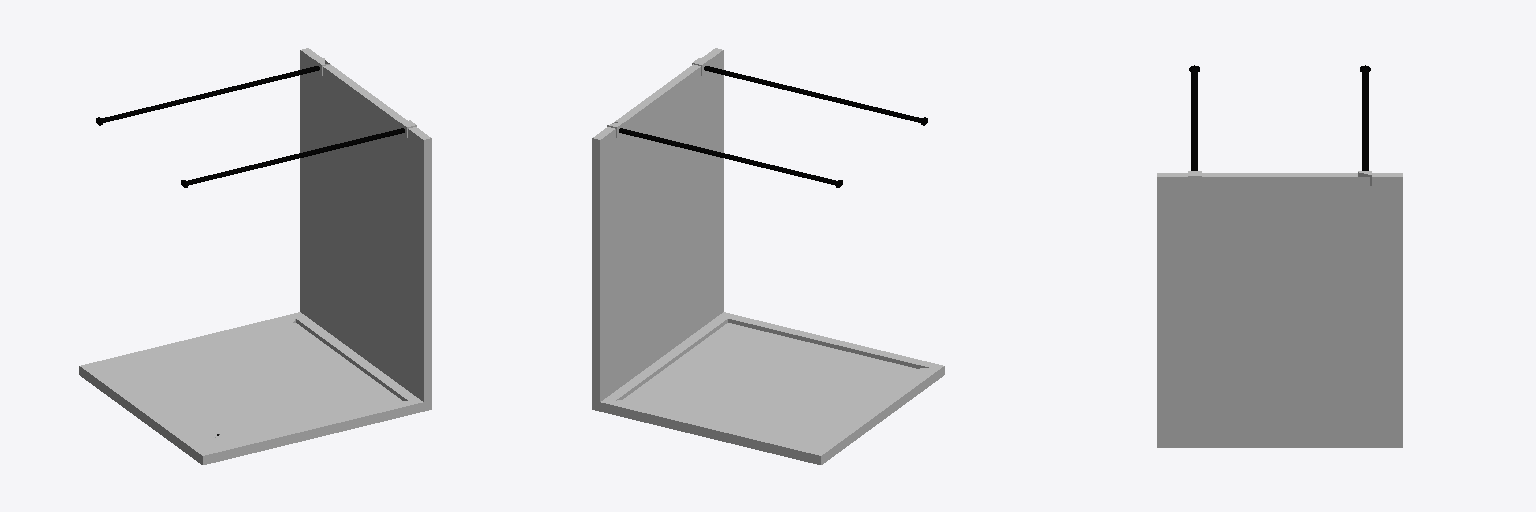
File: ShowerRoom.obj
3 views of the same model, side by side, from view 1: azimuth 30°, elevation 25°; view 2: azimuth 150°, elevation 25°; view 3: azimuth 270°, elevation 25° (orthographic).
Parts seen in each view (by area): view 1: 6.ShowerRoom_3d-model; view 2: 6.ShowerRoom_3d-model; view 3: 6.ShowerRoom_3d-model.
Part boxes in pixels (x1,y1,x2,y2): 6.ShowerRoom_3d-model: (79, 48, 431, 464); 6.ShowerRoom_3d-model: (592, 48, 944, 464); 6.ShowerRoom_3d-model: (1157, 65, 1402, 447).
Size of the model in its own units: 8.85 by 10.05 by 8.23.